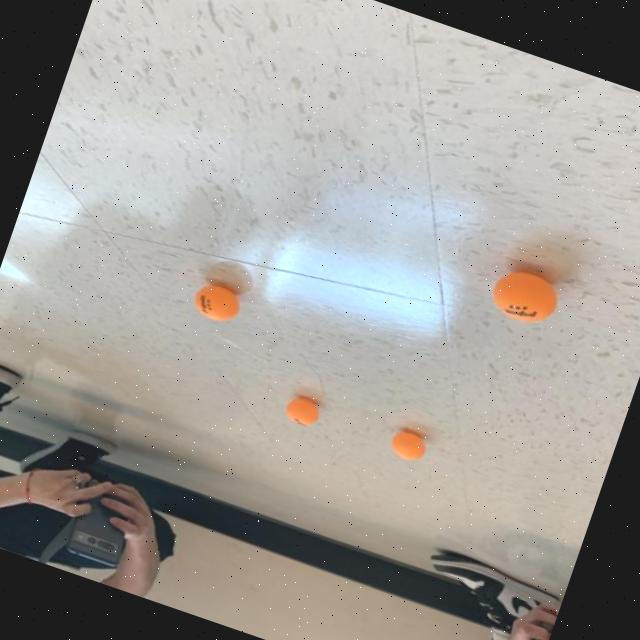ping-pong-ball: (478, 256, 570, 337), (184, 273, 249, 330), (278, 388, 328, 437), (382, 424, 432, 472)
